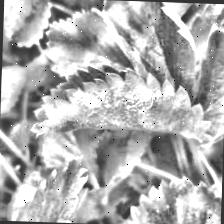Powdery Mildew Leaf: (27, 62, 216, 146), (98, 0, 198, 95)
